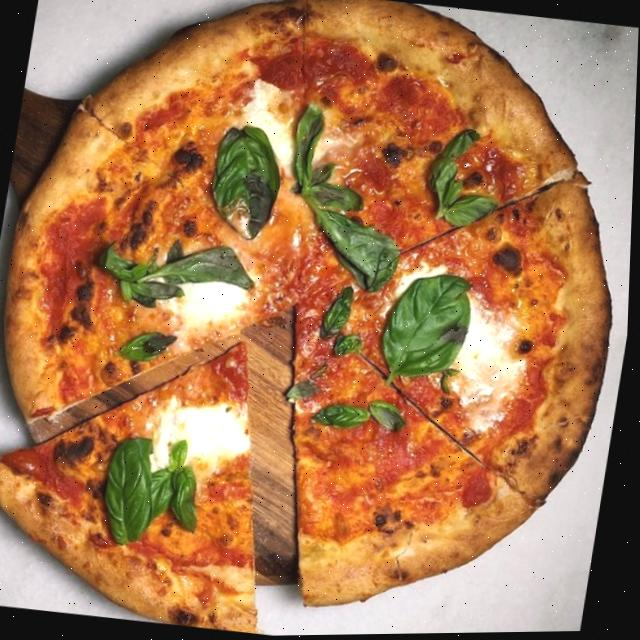basil: (267, 99, 420, 296), (98, 229, 263, 317), (375, 268, 483, 397), (202, 122, 288, 246), (421, 123, 511, 234), (96, 431, 166, 549), (146, 434, 212, 537), (119, 327, 177, 368), (321, 283, 358, 342), (314, 402, 373, 430), (367, 402, 411, 434), (333, 332, 363, 361)
pizza: (0, 0, 640, 640)
